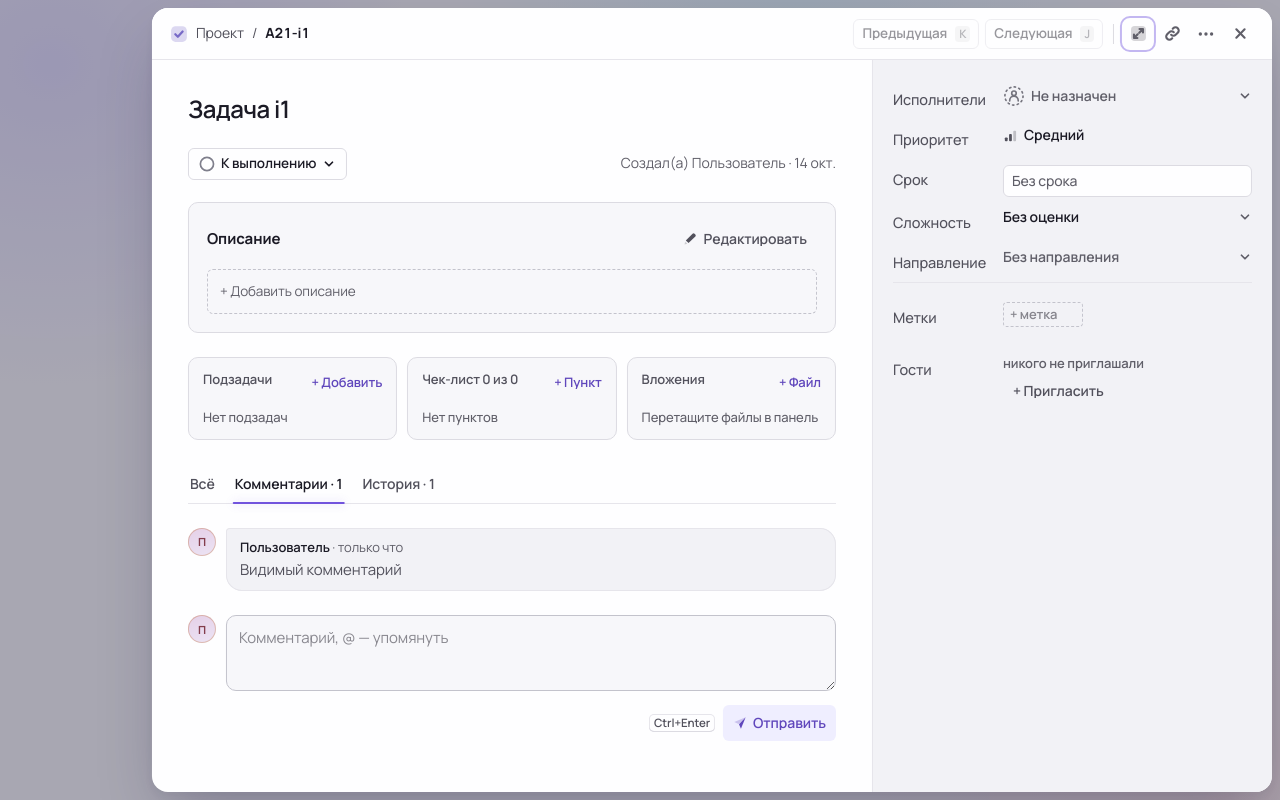
Test: IssueModal — характеризационные тесты (ТЗ 5.12 d, до переработки) › по умолчанию комментарии; вкладки «Всё» и «История» показывают события
Expected: the text "Видимый комментарий" is shown, [240,559,402,580]
Expected: the text "переименовал(а) задачу" is not shown
Click the tab "Всё" at (202, 484), box [188,464,217,504]
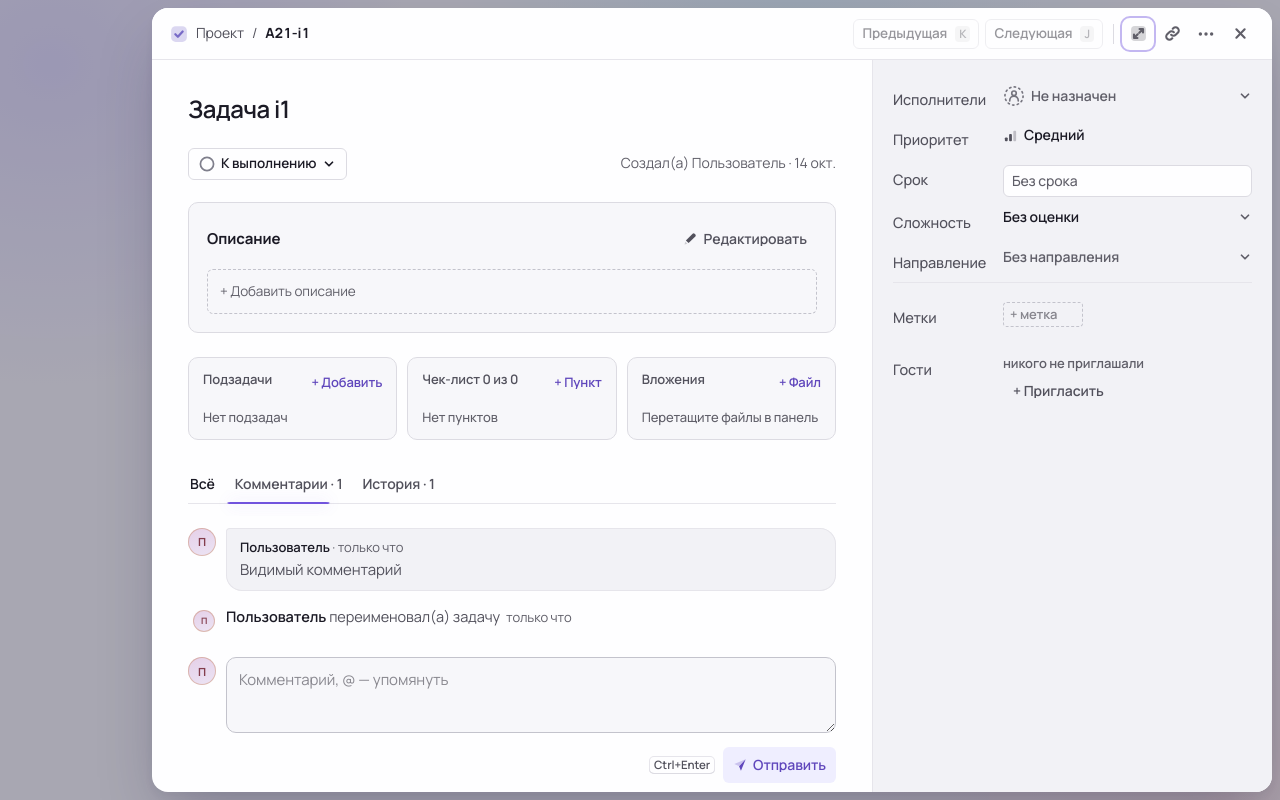
Expected: the text "Видимый комментарий" is shown, [240,559,402,580]
Result: the text "переименовал(а) задачу" is shown at [329,607,500,626]
Click the tab "Комментарии · 1" at (289, 484), box [233,464,344,504]
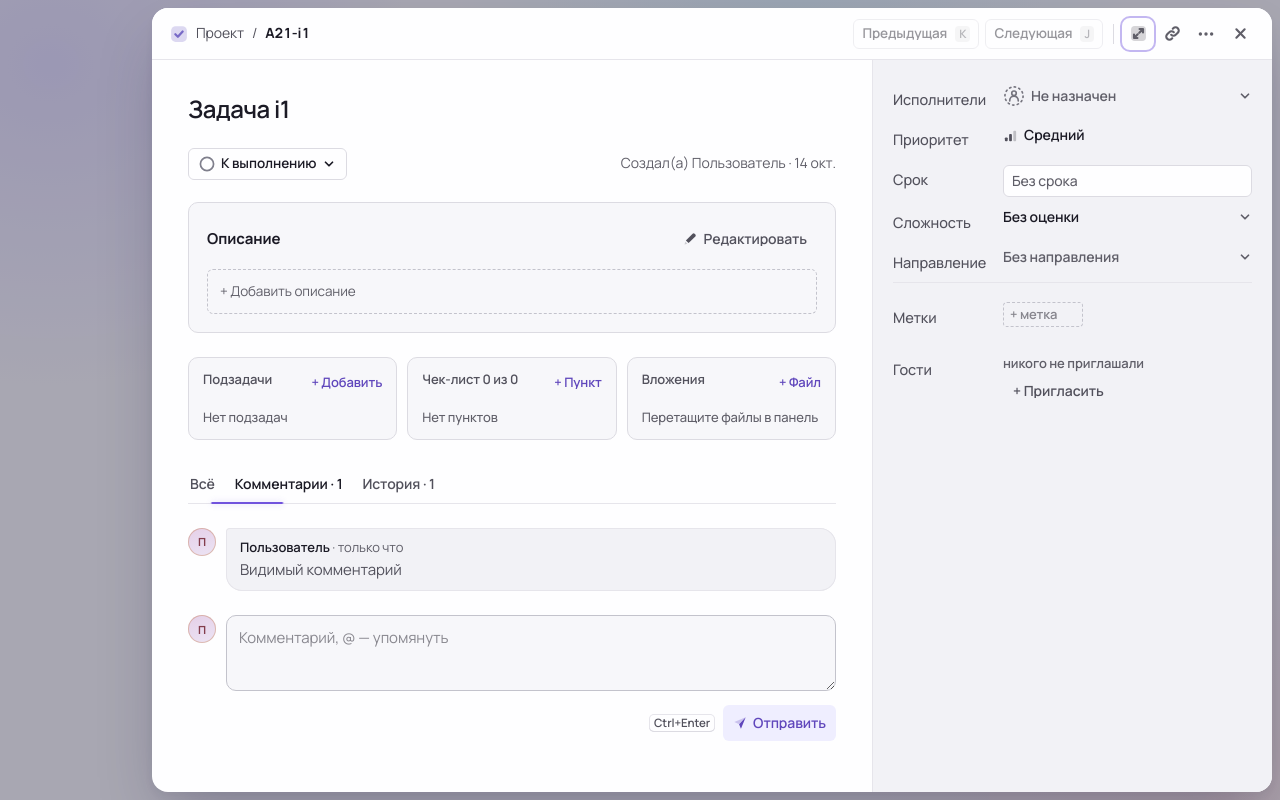
Expected: the text "Видимый комментарий" is shown, [240,559,402,580]
Result: the text "переименовал(а) задачу" is gone
Click the tab "История · 1" at (399, 484), box [360,464,437,504]
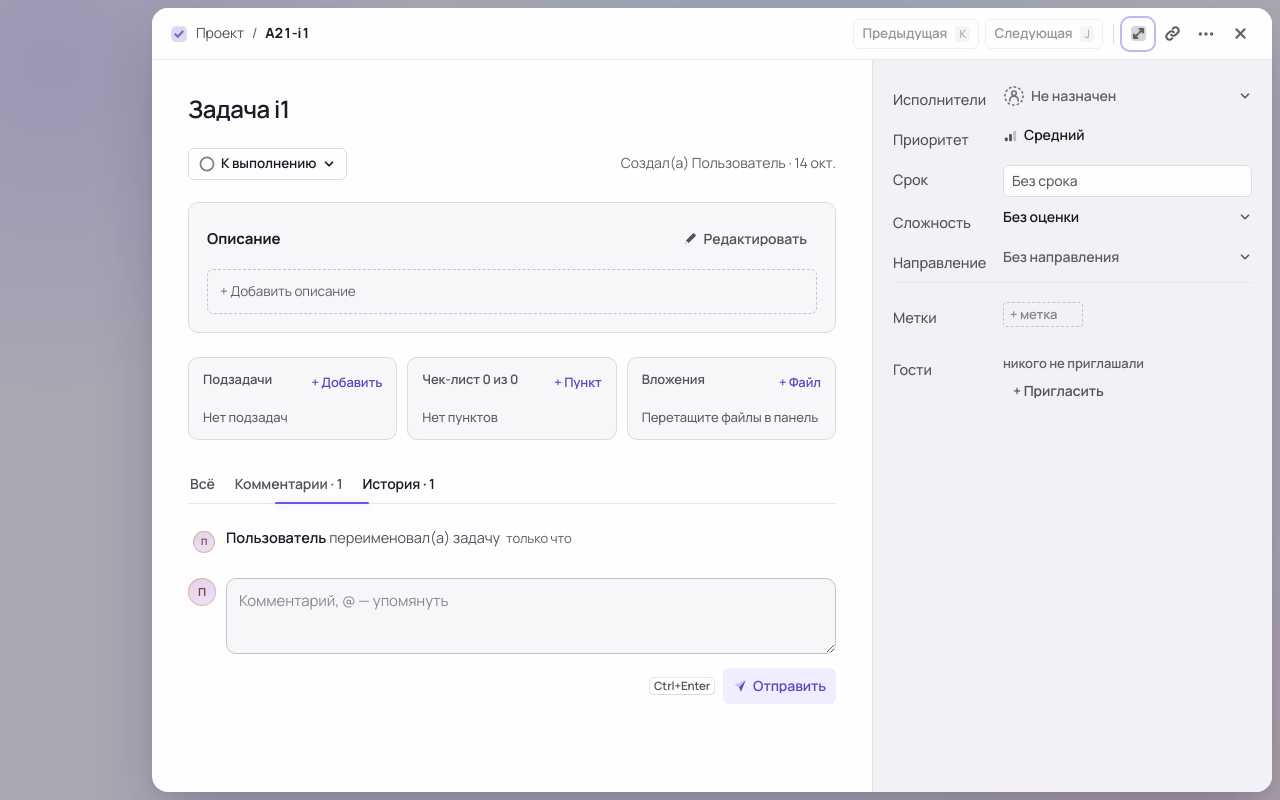
Result: the text "Видимый комментарий" is gone
Result: the text "переименовал(а) задачу" is shown at [329,528,500,547]
